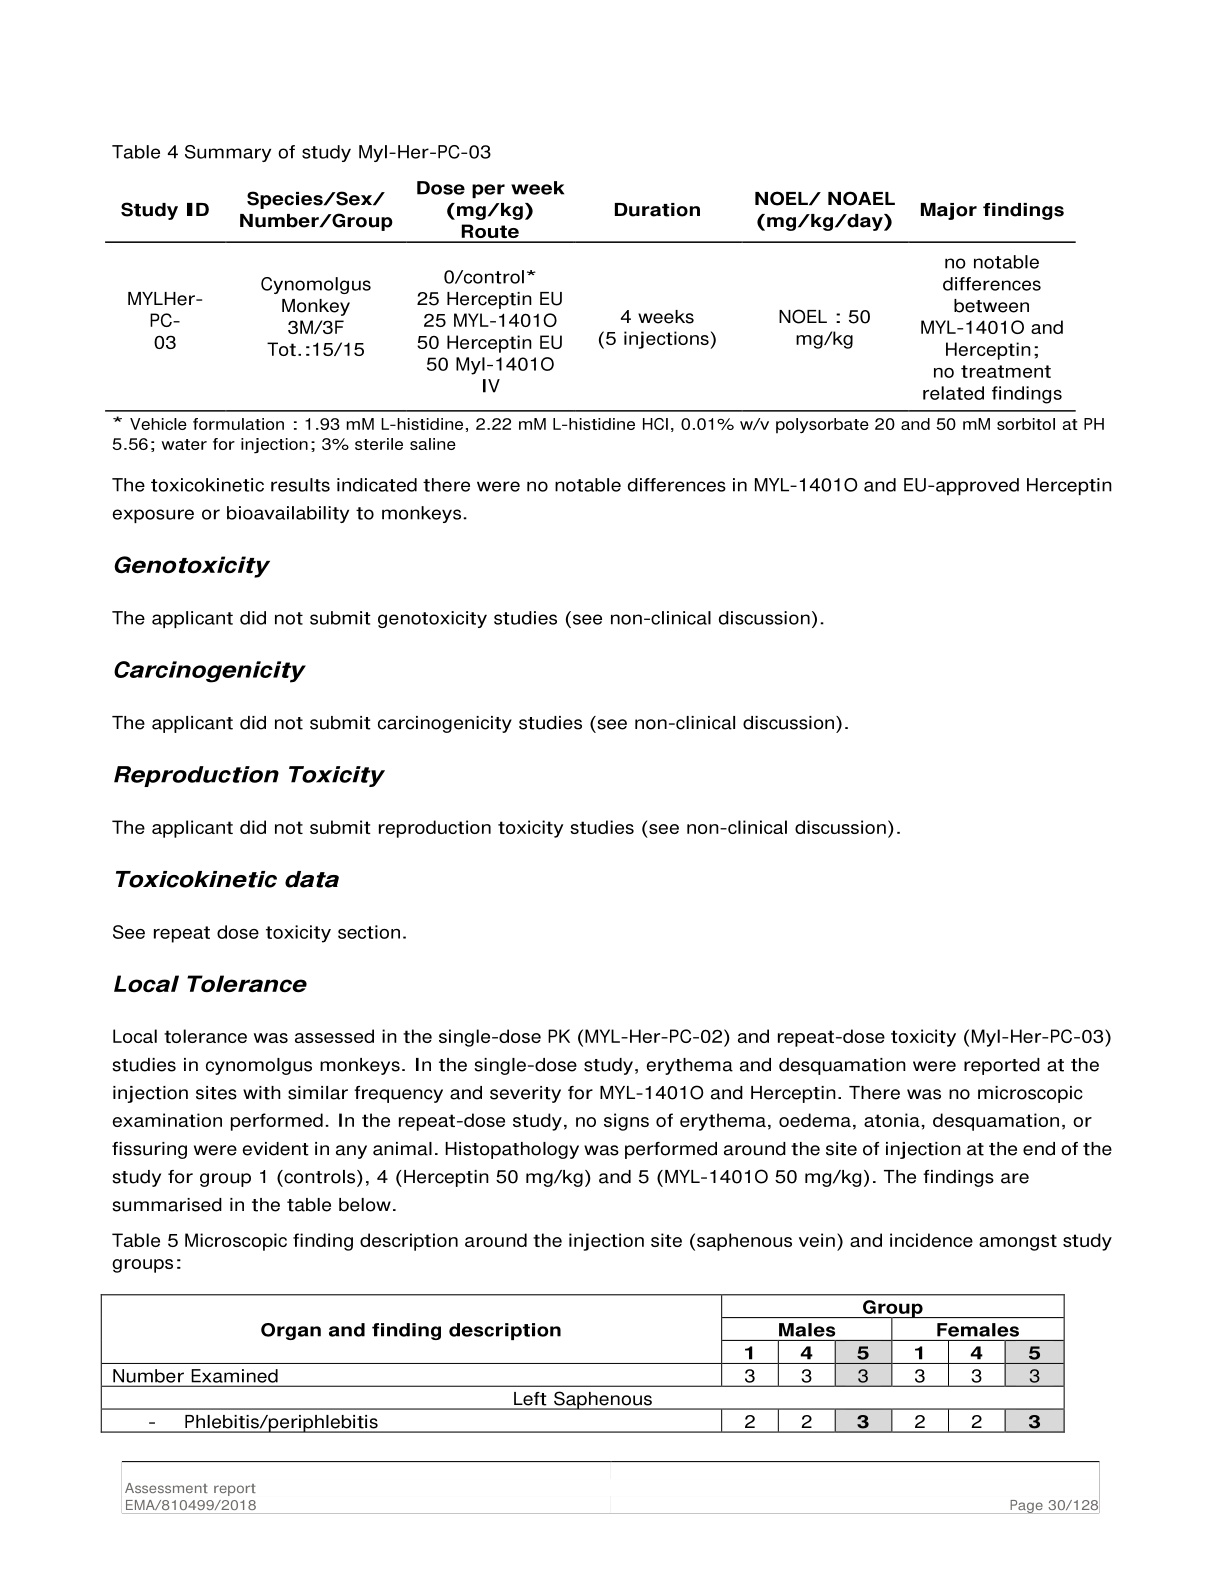merged_cells: (100, 1292, 1065, 1434)
partial_lined: (102, 177, 1079, 415)
